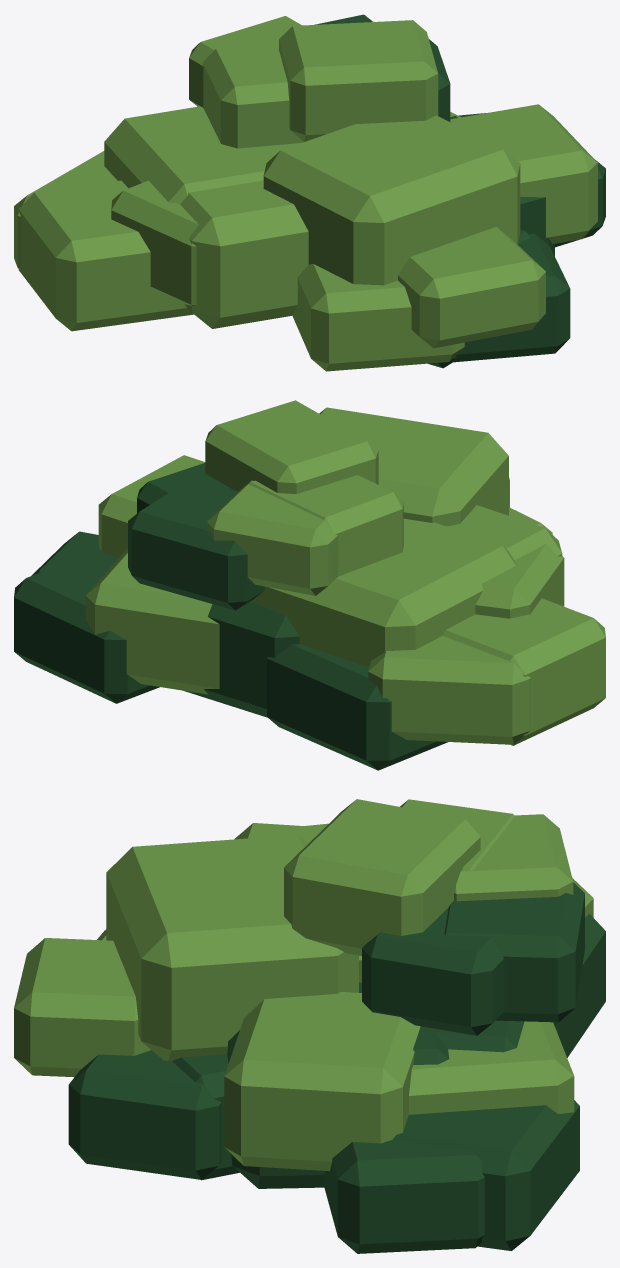
Rendered from bush_round.glb.
3 views of the same model, one above another, from view 1: azimuth 30°, elevation 25°; view 2: azimuth 150°, elevation 25°; view 3: azimuth 270°, elevation 25° (orthographic). The views are drawn at different scales.
Visible parts, largest first — view 1: Bush; view 2: Bush; view 3: Bush.
Part boxes in pixels (<box>): Bush: <box>14,14,605,371</box>; Bush: <box>14,400,605,770</box>; Bush: <box>14,799,605,1253</box>.
Bounding box in the file's own units: 1.73 × 0.7307 × 1.35.
